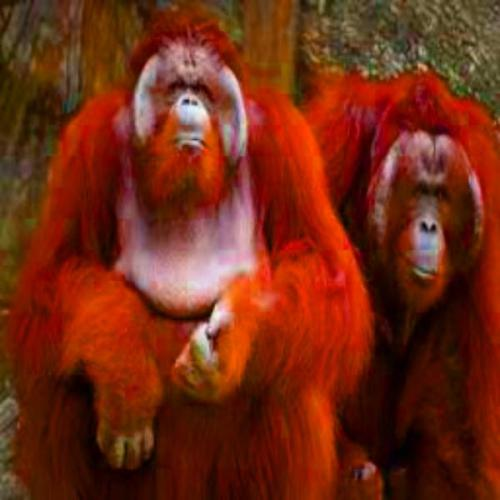orangutan-endangered: (43, 23, 348, 485), (327, 76, 500, 485)
